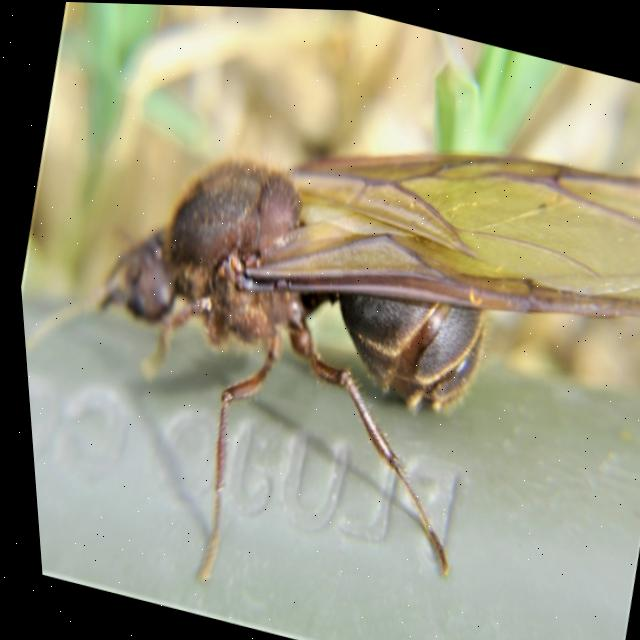Alive-Female-Alate: (1, 20, 640, 640)
